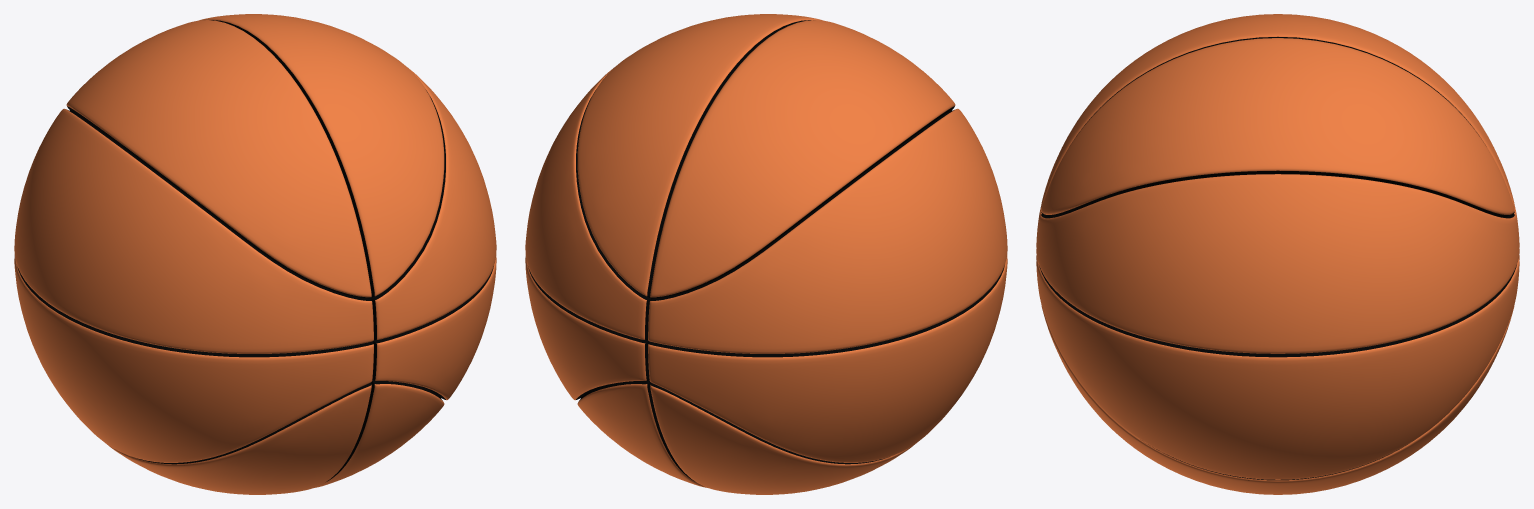
File: basketball_animation.glb
3 renders of one model, left to right at view 1: azimuth 30°, elevation 25°; view 2: azimuth 150°, elevation 25°; view 3: azimuth 270°, elevation 25°, orthographic.
Parts seen in each view (by area): view 1: Cube; view 2: Cube; view 3: Cube.
Boxes of the visible parts, box(x1,y1,x2,y2) form: Cube: box(14, 14, 496, 494); Cube: box(525, 14, 1007, 494); Cube: box(1036, 14, 1519, 494).
Bounding box in the file's own units: 1.77 × 1.77 × 1.78.
